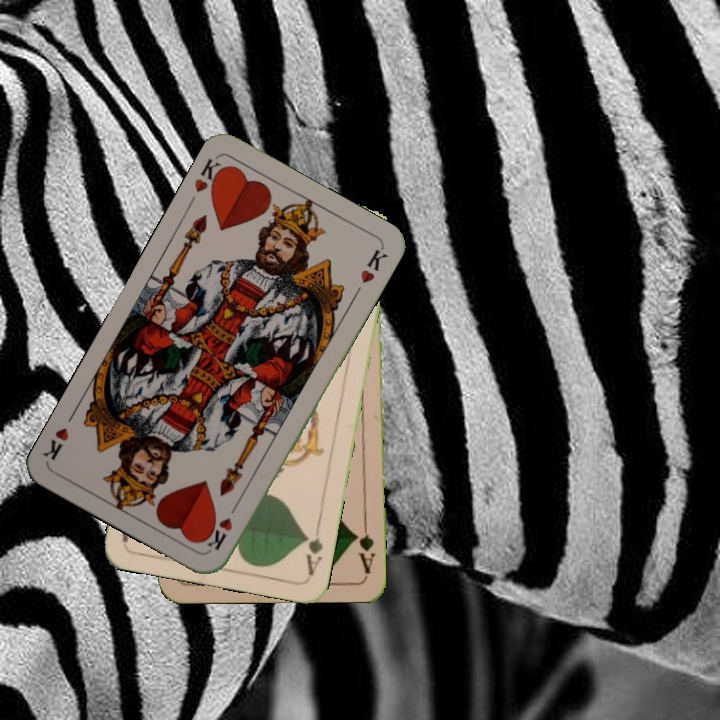GA: (351, 517, 378, 576), (300, 519, 325, 578)
HK: (202, 498, 242, 553), (190, 153, 230, 198)
